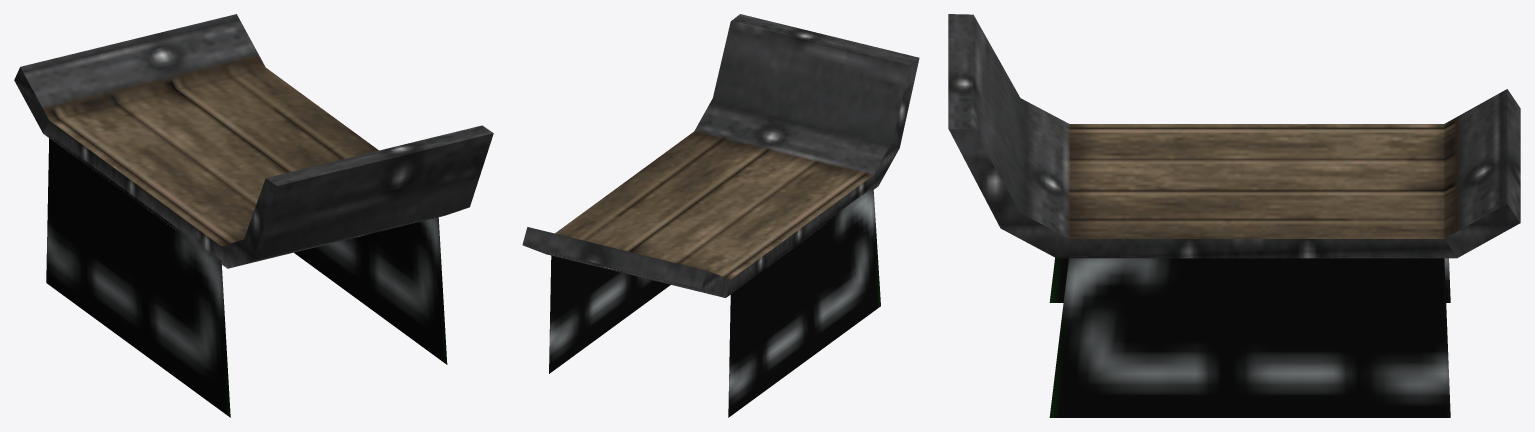
3 views of the same model, side by side, from view 1: azimuth 30°, elevation 25°; view 2: azimuth 150°, elevation 25°; view 3: azimuth 270°, elevation 25° (orthographic). The views are drawn at different scales.
Visible parts, largest first — view 1: a72; view 2: a72; view 3: a72.
Boxes of the visible parts, box(x1,y1,x2,y2) form: a72: box(14, 14, 493, 417); a72: box(522, 14, 919, 417); a72: box(948, 14, 1520, 417).
Bounding box in the file's own units: 105 × 123 × 221.
